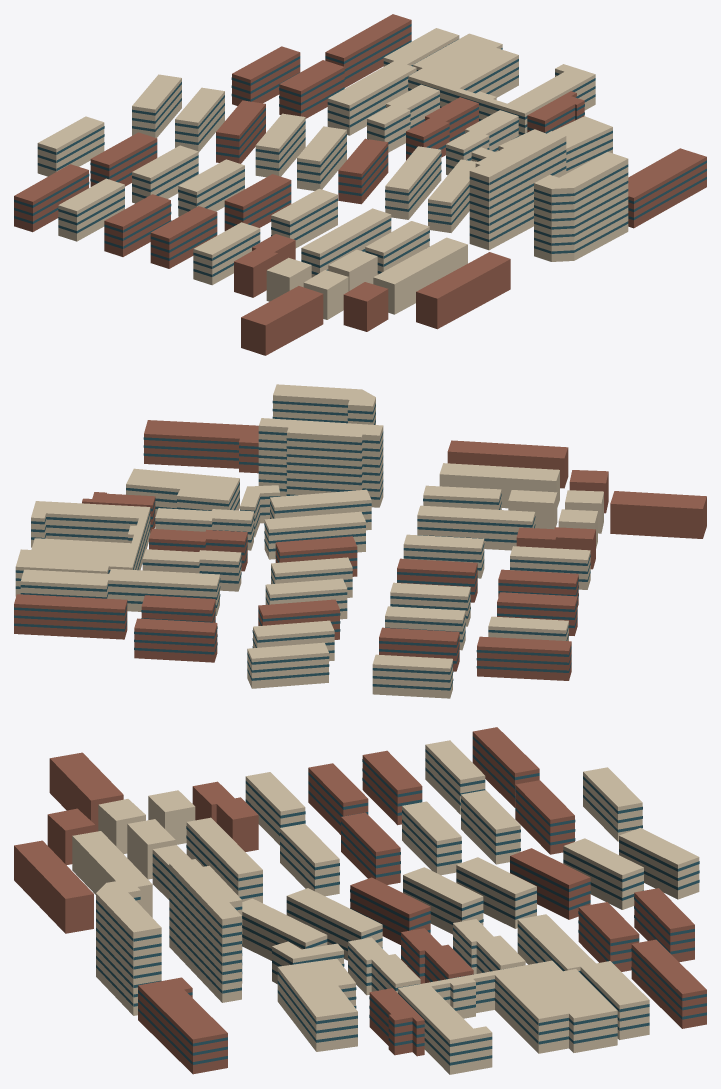
Rendered from city_9_-1.glb.
3 renders of one model, top to bottom at view 1: azimuth 30°, elevation 25°; view 2: azimuth 150°, elevation 25°; view 3: azimuth 270°, elevation 25°, orthographic. The views are drawn at different scales.
Parts seen in each view (by area): view 1: city_9_-1; view 2: city_9_-1; view 3: city_9_-1.
Part boxes in pixels (x1,y1,x2,y2): city_9_-1: (14,14,706,355); city_9_-1: (14,384,706,698); city_9_-1: (14,727,706,1074).
Bounding box in the file's own units: 289 × 36 × 270.
